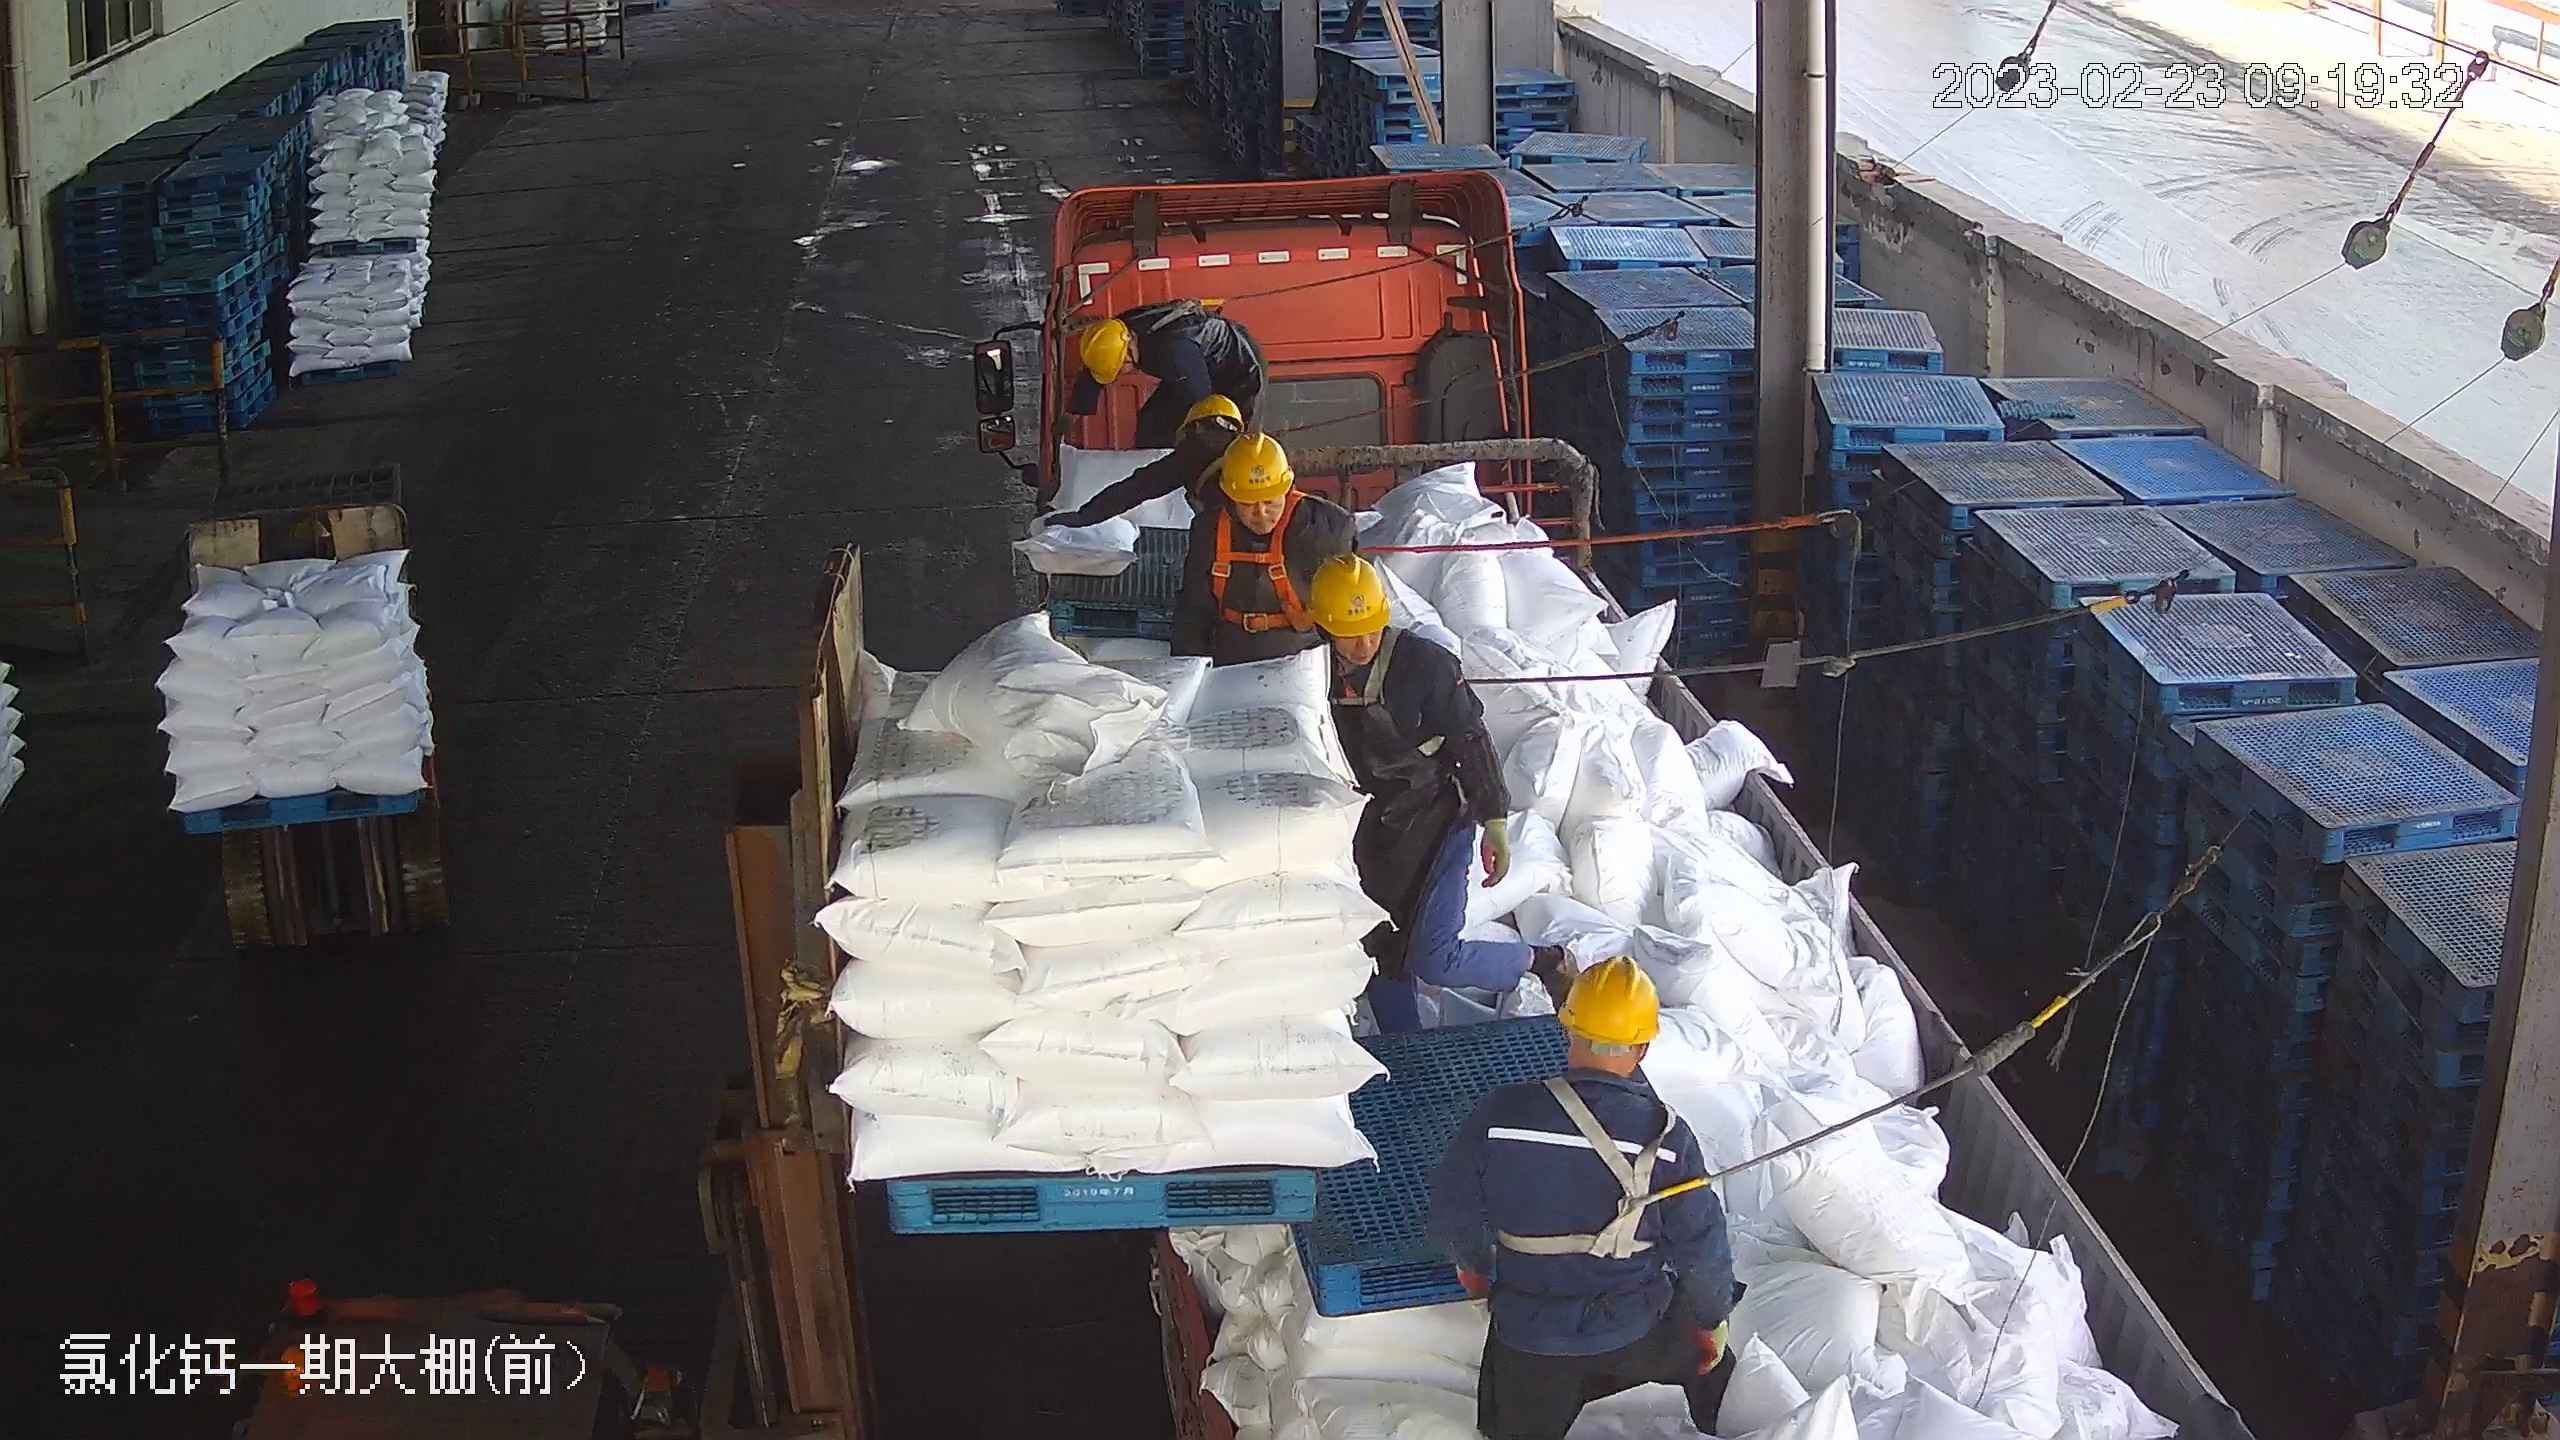belt: (1487, 1069, 1726, 1258), (1210, 499, 1317, 624), (1327, 626, 1424, 716), (1142, 292, 1220, 336), (1183, 448, 1231, 492)
head: (1470, 954, 1702, 1187), (1306, 555, 1469, 725), (1190, 430, 1342, 575)
helmet: (1558, 953, 1662, 1044), (1307, 551, 1391, 637), (1218, 430, 1292, 504), (1077, 316, 1130, 385), (1182, 393, 1241, 438)
people: (1445, 956, 1743, 1440), (1306, 553, 1513, 1047), (1081, 300, 1275, 439)
truck: (971, 172, 2253, 1418)
